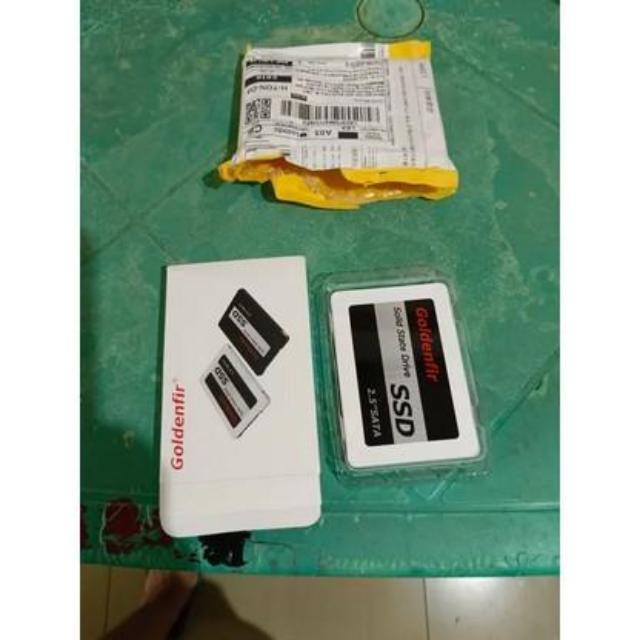DISK: (326, 280, 480, 469)
